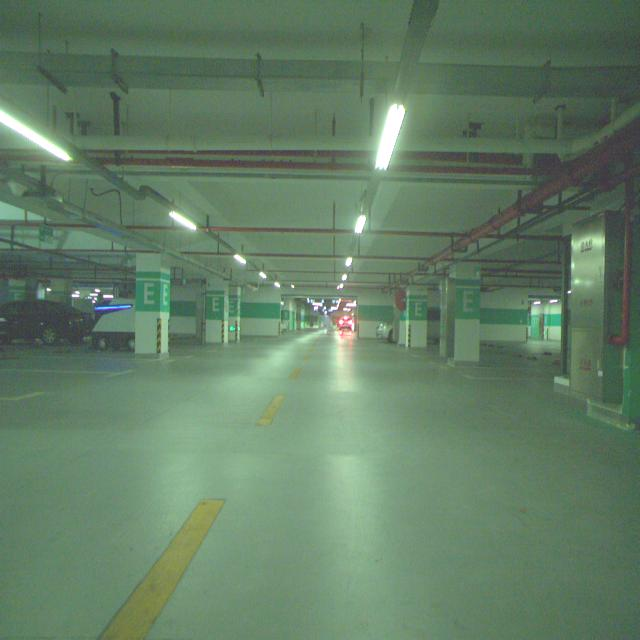pillar: (135, 253, 170, 356), (205, 278, 229, 344), (405, 286, 428, 347)
